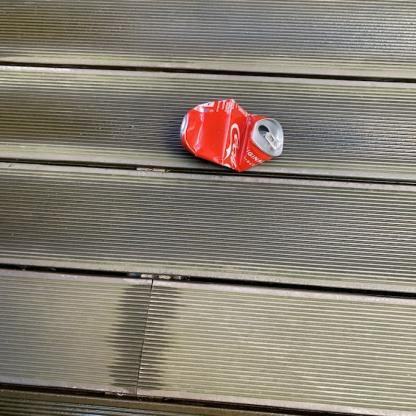trash: (173, 99, 296, 175)
